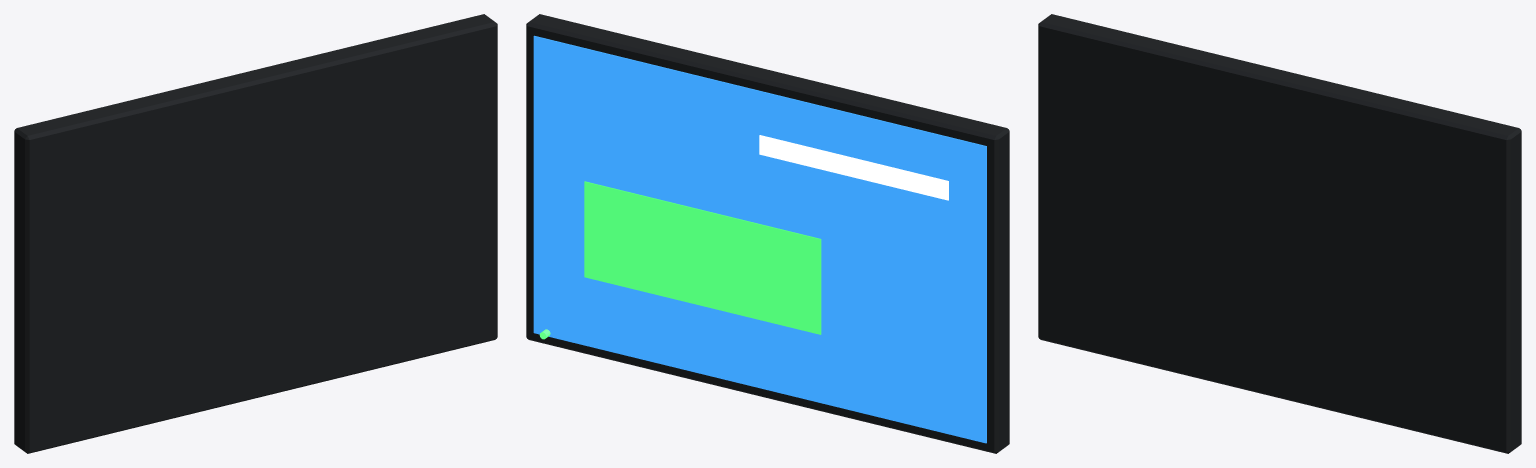
Rendered from wall_screen.glb.
3 renders of one model, left to right at view 1: azimuth 30°, elevation 25°; view 2: azimuth 150°, elevation 25°; view 3: azimuth 330°, elevation 25°, orthographic.
Parts seen in each view (by area): view 1: wall_screen; view 2: wall_screen; view 3: wall_screen.
Boxes of the visible parts, <box> form: wall_screen: <box>14,14,497,453</box>; wall_screen: <box>526,14,1009,453</box>; wall_screen: <box>1038,14,1521,453</box>.
Bounding box in the file's own units: 1.4 × 0.9 × 0.1.
